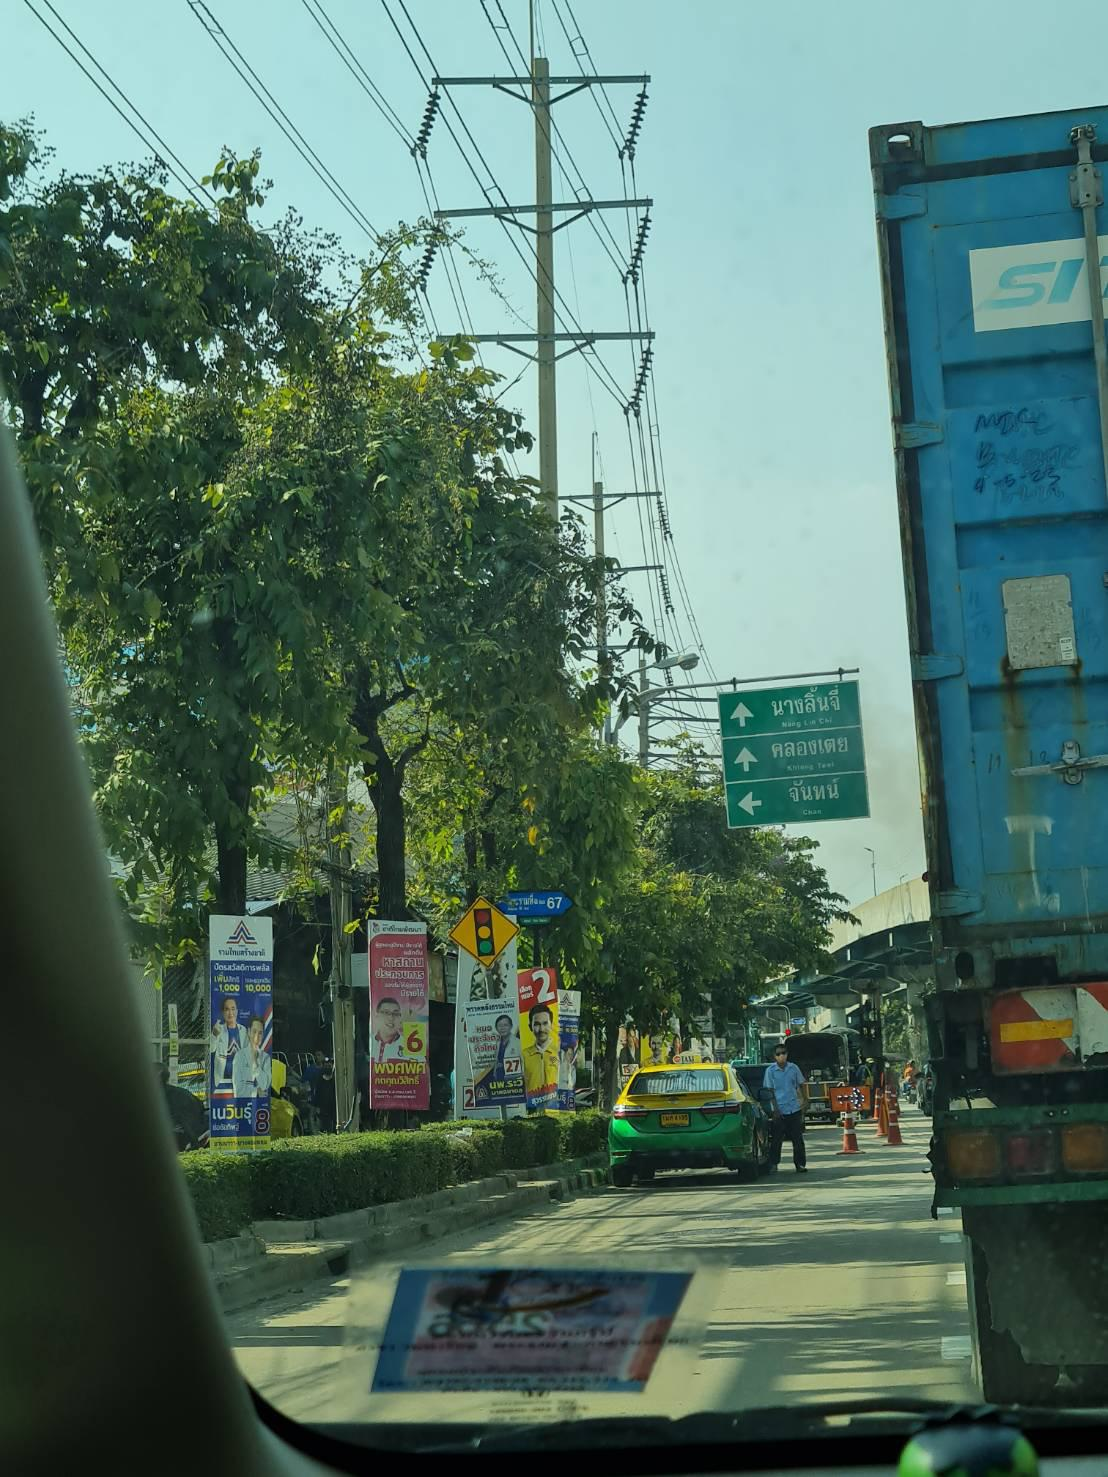Banner: (209, 900, 283, 1139)
